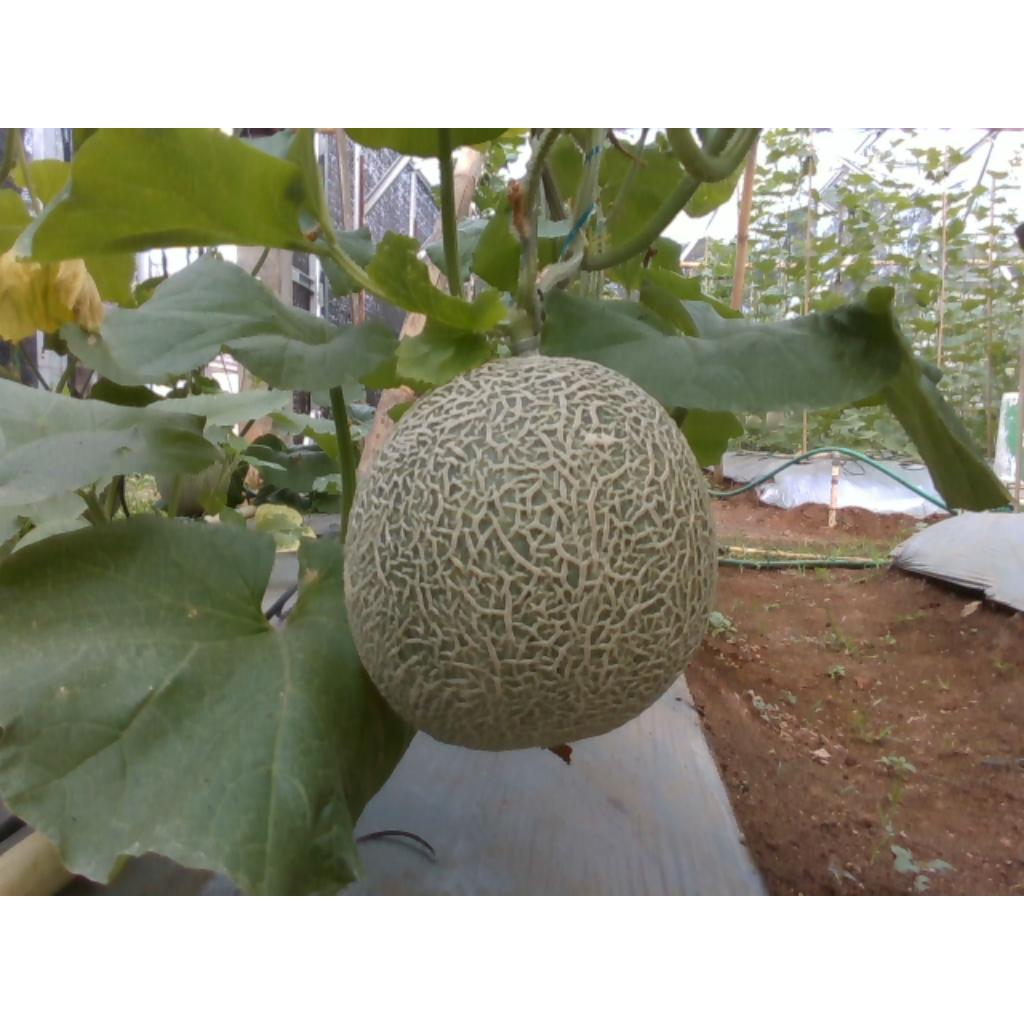melon: (344, 355, 717, 751)
